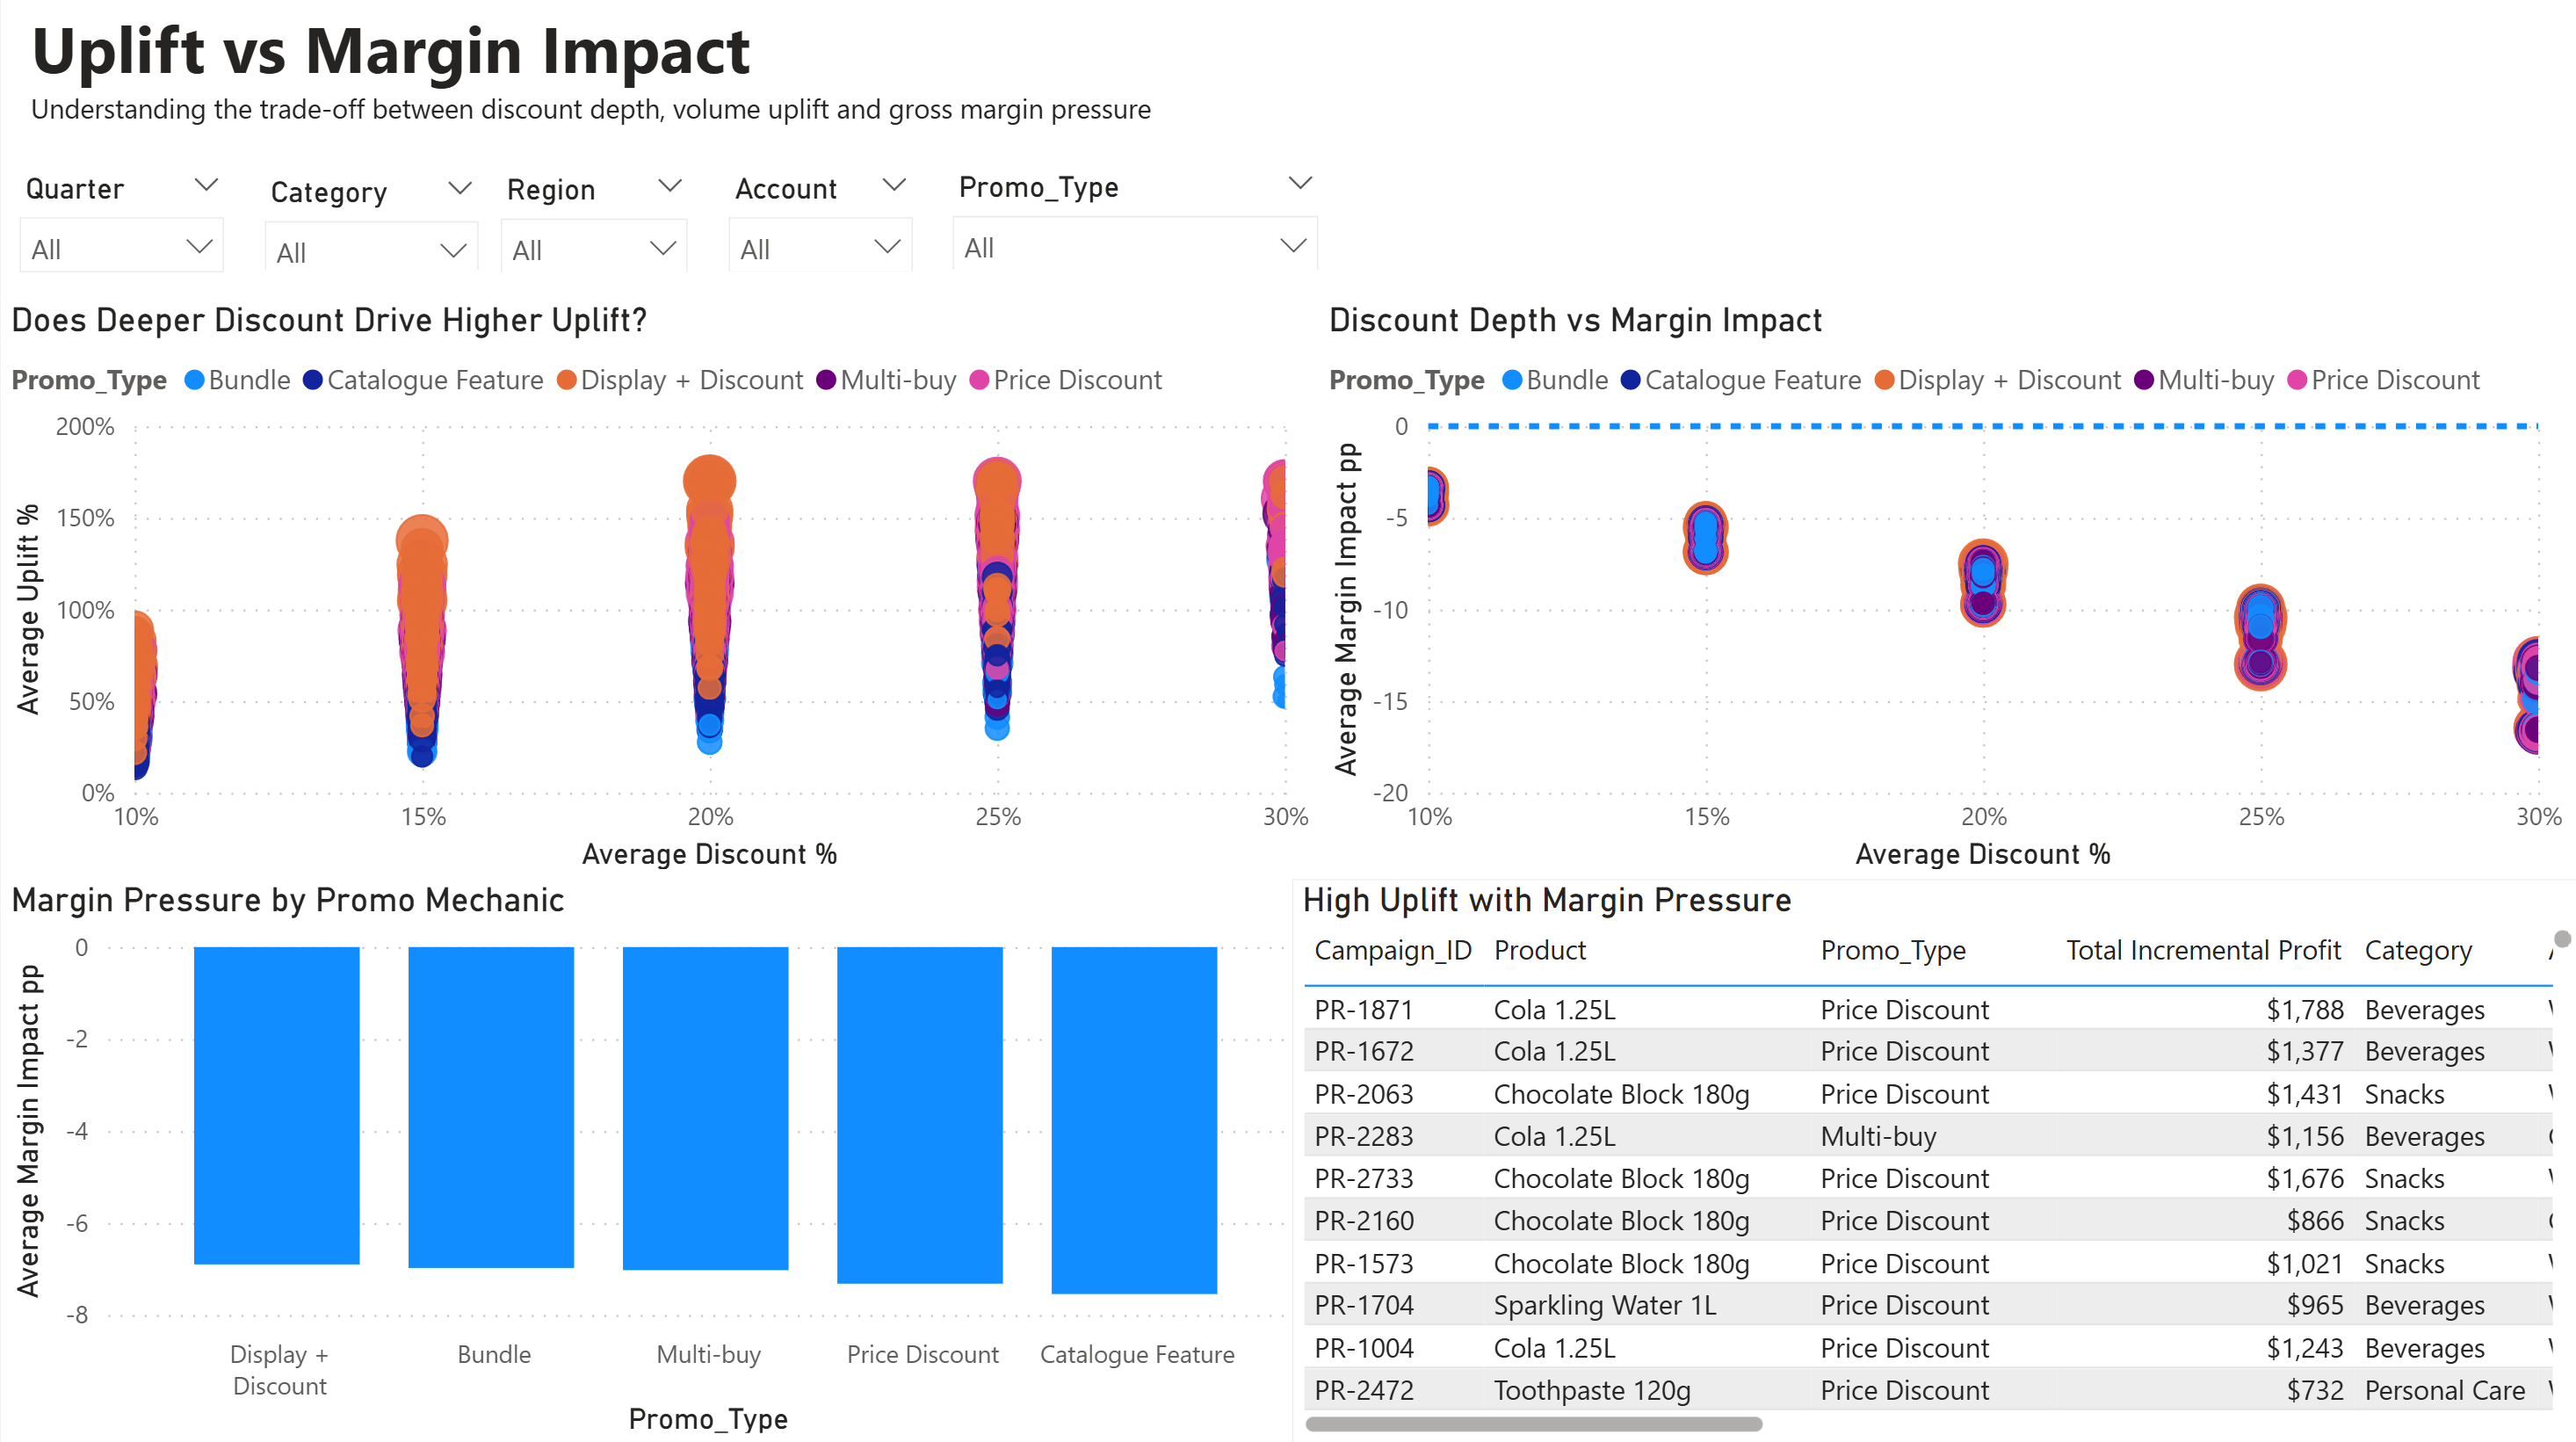

What the dashboard file says about the page in this screenshot:
{"tool":"powerbi","page":{"name":"Uplift vs Margin Impact","canvas":[1280,720],"ordinal":2},"visuals":[{"type":"textbox","box":[9.8,0,581.2,79.8],"z":0},{"type":"slicer","fields":{"Values":["PromoData.Quarter"]},"box":[-0.9,83.5,121.5,57.7],"z":1000},{"type":"slicer","fields":{"Values":["PromoData.Category"]},"box":[120.6,86,125.8,52.2],"z":2000},{"type":"slicer","fields":{"Values":["PromoData.Region"]},"box":[237.9,84.1,112.9,54.6],"z":3000},{"type":"slicer","fields":{"Values":["PromoData.Account"]},"box":[350.8,83.5,111.1,54.6],"z":4000},{"type":"slicer","fields":{"Values":["PromoData.Promo_Type"]},"box":[462.2,83,201.3,54.9],"z":5000},{"type":"scatterChart","title":"Does Deeper Discount Drive Higher Uplift?","fields":{"Category":["PromoData.Campaign_ID"],"X":["_Measures.Average Discount %"],"Y":["_Measures.Average Uplift %"],"Series":["PromoData.Promo_Type"],"Size":["_Measures.Total Incremental Profit"]},"box":[0,152.4,653.6,287.5],"z":6000},{"type":"scatterChart","title":"Discount Depth vs Margin Impact","fields":{"Category":["PromoData.Campaign_ID"],"X":["_Measures.Average Discount %"],"Series":["PromoData.Promo_Type"],"Y":["_Measures.Average Margin Impact pp"],"Size":["_Measures.Total Promo Cost"]},"box":[653.6,152.4,621.6,287.5],"z":8000},{"type":"clusteredColumnChart","title":"Margin Pressure by Promo Mechanic","fields":{"Category":["PromoData.Promo_Type"],"Y":["_Measures.Average Margin Impact pp"]},"box":[0,439.9,653.6,279.8],"z":9000},{"type":"tableEx","title":"High Uplift with Margin Pressure","fields":{"Values":["PromoData.Campaign_ID","PromoData.Product","PromoData.Promo_Type","_Measures.Total Incremental Profit","PromoData.Category","PromoData.Account","_Measures.Average Discount %","_Measures.Average Uplift %","_Measures.Average Margin Impact pp","_Measures.Average Campaign ROI","PromoData.Region","PromoData.Recommendation"]},"box":[640.3,439.9,639.7,279.8],"z":10000}]}

Visuals, with their boxes in screenshot pixels (x1, y1, x2, y2), scaled from the page's 1280x720 canvas onto the 2576x1442 screenshot:
textbox: 19:0:1190:160
slicer - PromoData.Quarter: 0:167:242:283
slicer - PromoData.Category: 242:172:496:277
slicer - PromoData.Region: 479:169:706:278
slicer - PromoData.Account: 706:167:930:277
slicer - PromoData.Promo_Type: 930:166:1335:276
"Does Deeper Discount Drive Higher Uplift?" scatterChart: 0:305:1315:881
"Discount Depth vs Margin Impact" scatterChart: 1315:305:2566:881
"Margin Pressure by Promo Mechanic" clusteredColumnChart: 0:881:1315:1441
"High Uplift with Margin Pressure" tableEx: 1289:881:2575:1441
